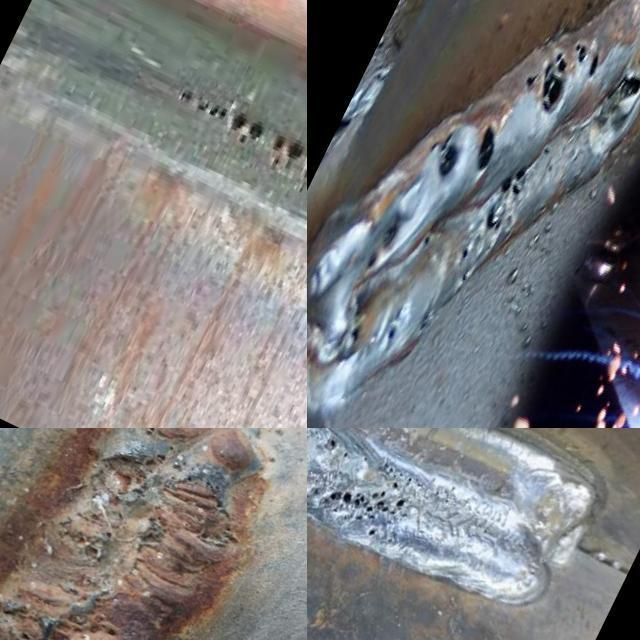defect: (520, 36, 607, 116), (316, 476, 414, 541), (171, 86, 270, 147), (176, 468, 231, 546), (96, 447, 169, 502), (594, 69, 640, 132), (47, 608, 119, 640), (471, 112, 501, 176), (428, 126, 461, 181), (139, 500, 177, 544), (67, 526, 105, 560), (338, 310, 366, 353), (497, 162, 528, 200), (485, 203, 505, 237), (380, 219, 401, 251), (320, 434, 346, 454), (384, 321, 400, 345), (418, 309, 432, 332), (364, 251, 377, 270), (136, 428, 160, 438), (16, 628, 34, 640), (0, 608, 18, 620), (544, 156, 555, 173), (540, 142, 552, 156), (461, 245, 470, 260), (421, 234, 430, 247), (461, 273, 467, 282)
